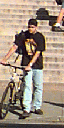person: (9, 16, 48, 109)
